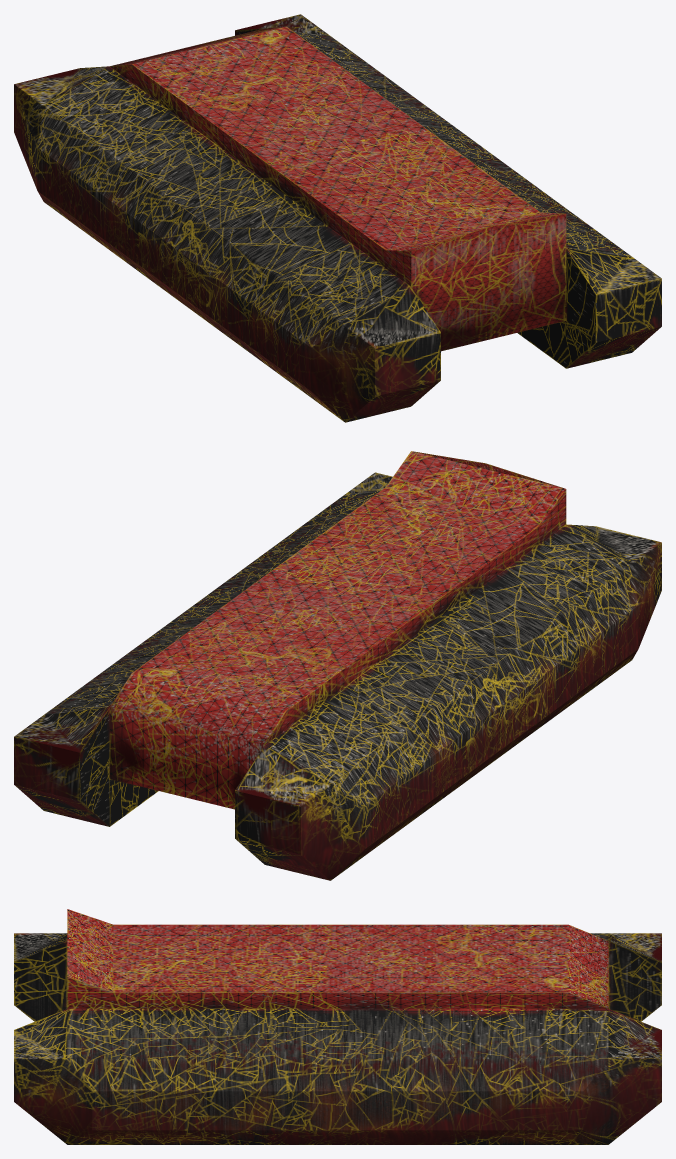
Rendered from TankBottom.fbx.
3 renders of one model, top to bottom at view 1: azimuth 30°, elevation 25°; view 2: azimuth 150°, elevation 25°; view 3: azimuth 270°, elevation 25°, orthographic. The views are drawn at different scales.
Parts seen in each view (by area): view 1: polySurface4; view 2: polySurface4; view 3: polySurface4.
Part boxes in pixels (bbox=[...]): polySurface4: bbox=[14, 14, 661, 422]; polySurface4: bbox=[14, 451, 661, 880]; polySurface4: bbox=[14, 909, 661, 1144].
Size of the model in its own units: 6.47 by 3.04 by 12.35.
